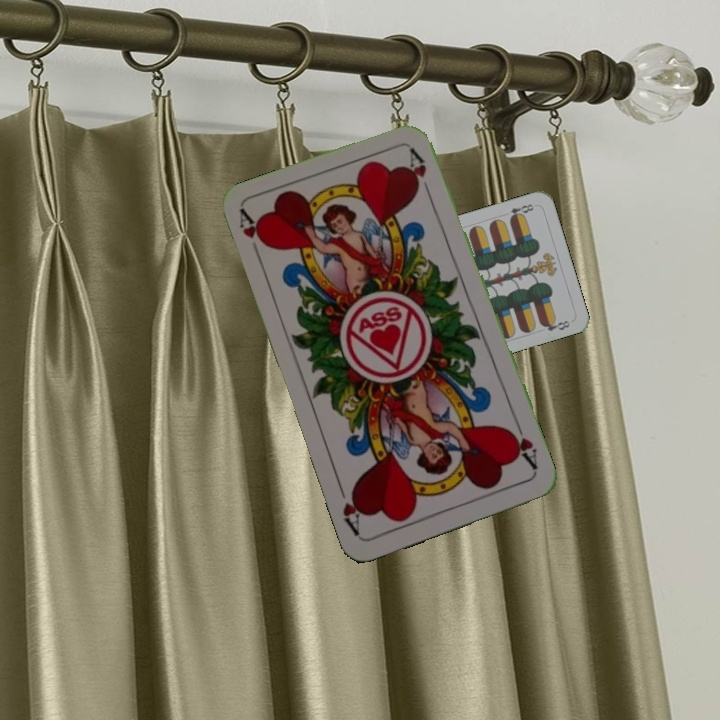E8: (505, 200, 536, 223)
HA: (234, 207, 270, 265), (504, 417, 541, 473)
